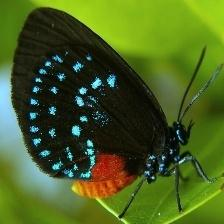butterfly: (11, 9, 194, 198)
